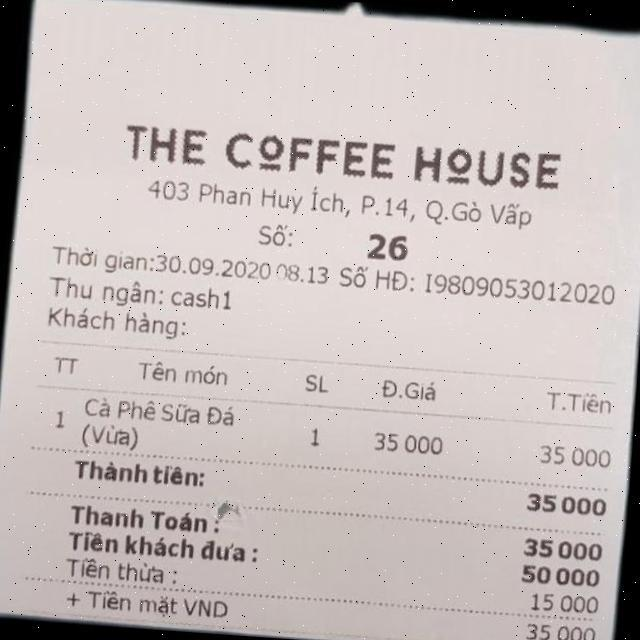Date: (152, 252, 277, 282)
Store_Name: (121, 115, 568, 198)
amount_number: (523, 488, 608, 518)
label_total: (69, 454, 210, 496)
